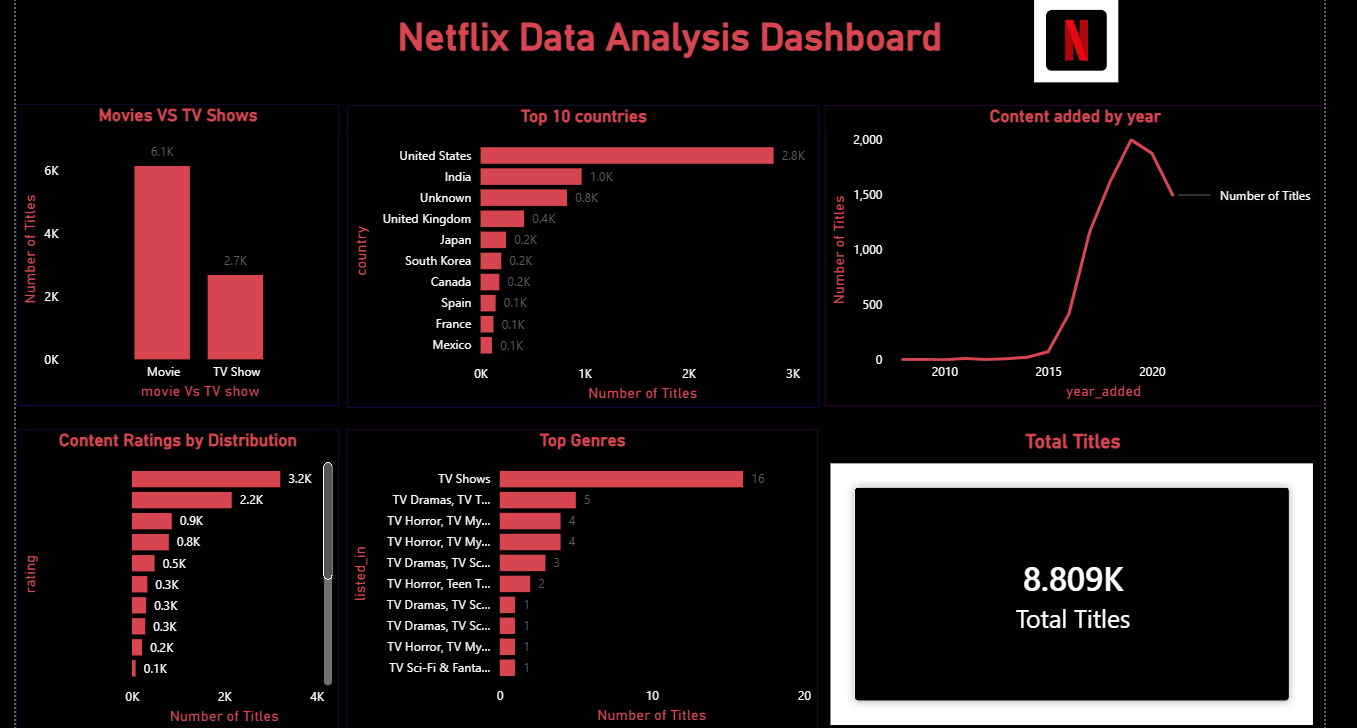

The page's visual inventory and layout, read from the dashboard file:
{"tool":"powerbi","page":{"name":"Page 1","canvas":[1280,720],"ordinal":0},"visuals":[{"type":"clusteredColumnChart","title":"Movies VS TV Shows","fields":{"Category":["netflix_cleaned.type"],"Y":["CountNonNull(netflix_cleaned.show_id)"]},"box":[0,107,315.6,295],"z":0},{"type":"clusteredBarChart","title":"Top 10 countries","fields":{"Category":["netflix_cleaned.country"],"Y":["CountNonNull(netflix_cleaned.show_id)"]},"box":[324.3,108.6,461.4,295.7],"z":1000},{"type":"lineChart","title":"Content added by year","fields":{"Category":["netflix_cleaned.year_added"],"Y":["CountNonNull(netflix_cleaned.show_id)"]},"box":[791.4,108.6,488.6,294.3],"z":2000},{"type":"clusteredBarChart","title":"Content Ratings by Distribution","fields":{"Category":["netflix_cleaned.rating"],"Y":["CountNonNull(netflix_cleaned.show_id)"]},"box":[0,425.4,315.6,295],"z":3000},{"type":"clusteredBarChart","title":"Top Genres","fields":{"Category":["netflix_cleaned.listed_in"],"Y":["CountNonNull(netflix_cleaned.show_id)"]},"box":[322.9,425.7,461.4,294.3],"z":4000},{"type":"cardVisual","title":"Total Titles","fields":{"Data":["CountNonNull(netflix_cleaned.show_id)"]},"box":[791.8,425.4,484,295],"z":5000},{"type":"textbox","title":"Netflix Data Analysis Dashboard","box":[256.6,20.6,765.7,42.5],"z":6000},{"type":"image","box":[962.9,2,150,86],"z":7000}]}

Visuals, with their boxes on the page's 1280x720 design canvas (x1, y1, x2, y2). These are canvas units, not pixel positions in the 1357x728 screenshot, which may show the page scaled, cropped or inside an application window:
"Movies VS TV Shows" clusteredColumnChart: bbox(0, 107, 316, 402)
"Top 10 countries" clusteredBarChart: bbox(324, 109, 786, 404)
"Content added by year" lineChart: bbox(791, 109, 1280, 403)
"Content Ratings by Distribution" clusteredBarChart: bbox(0, 425, 316, 720)
"Top Genres" clusteredBarChart: bbox(323, 426, 784, 720)
"Total Titles" cardVisual: bbox(792, 425, 1276, 720)
"Netflix Data Analysis Dashboard" textbox: bbox(257, 21, 1022, 63)
image: bbox(963, 2, 1113, 88)
